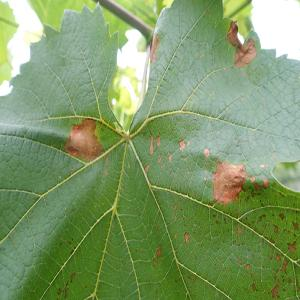Folha: (0, 0, 299, 298)
Fungo: (64, 117, 104, 162), (211, 159, 247, 206), (225, 19, 257, 69), (233, 37, 257, 68), (271, 282, 279, 298), (287, 241, 296, 254), (149, 133, 154, 154), (156, 243, 162, 258), (179, 138, 185, 150), (184, 232, 190, 243), (144, 163, 150, 174), (262, 177, 268, 187), (204, 148, 210, 158), (282, 260, 288, 270), (70, 272, 76, 282), (292, 220, 298, 230), (155, 135, 160, 145), (278, 212, 284, 219), (250, 176, 256, 183), (168, 153, 172, 163), (252, 282, 256, 291), (276, 253, 280, 261), (157, 155, 161, 163), (245, 263, 250, 269), (237, 226, 241, 233), (274, 225, 278, 232), (237, 257, 241, 264), (155, 225, 159, 232), (174, 202, 177, 210)
